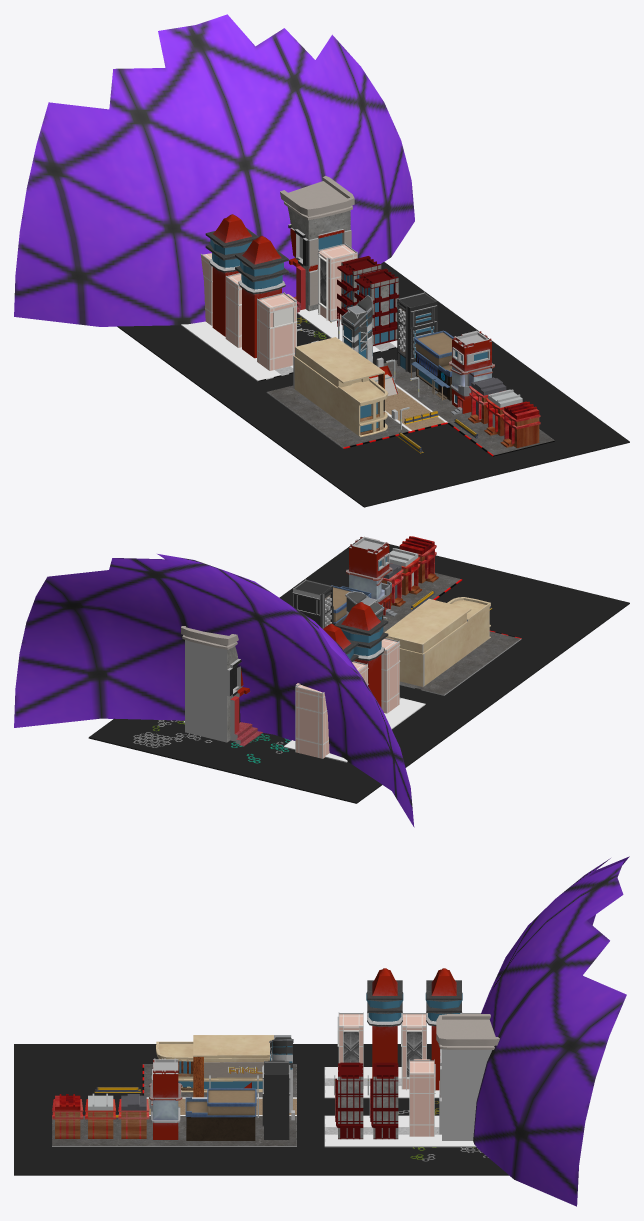
File: ChaosZooCityMapTest.fbx
3 views of the same model, one above another, from view 1: azimuth 30°, elevation 25°; view 2: azimuth 150°, elevation 25°; view 3: azimuth 270°, elevation 25° (orthographic).
Parts seen in each view (by area): view 1: pCube103; view 2: pCube103; view 3: pCube103.
Part boxes in pixels (x1,y1,x2,y2): pCube103: (14, 14, 629, 507); pCube103: (14, 536, 629, 827); pCube103: (14, 856, 629, 1206).
Size of the model in its own units: 275 by 153 by 365.
